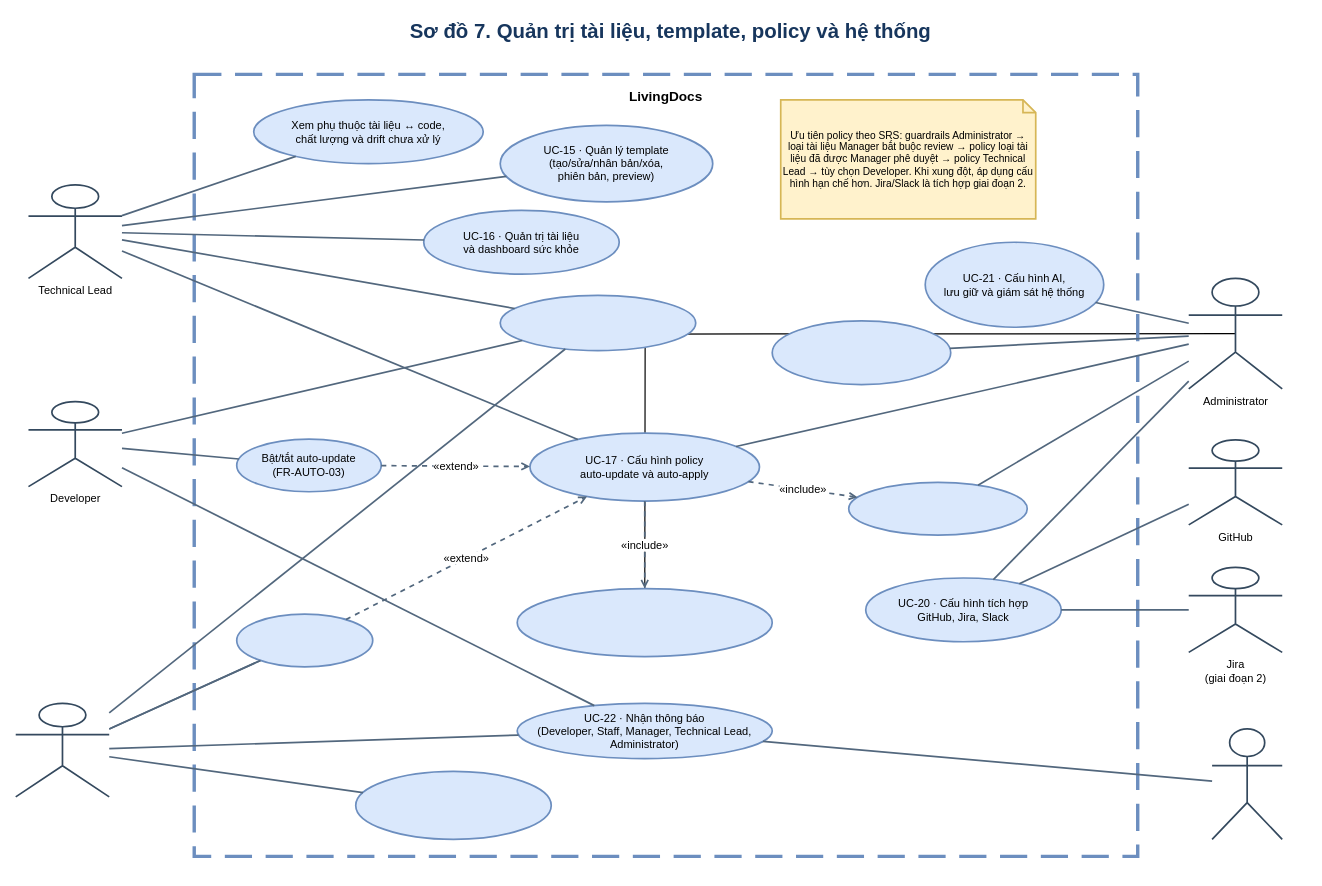
The diagram is 1322 pixels wide and 886 high, and some of its shapes have lost their labels. The centre of each missing label's shape, as x and y in pixels:
"Cấu hình policy theo loại tài liệu (Administrator · FR-AUTO-13)" belongs at [644,622].
"Giới hạn bảo vệ (guardrails) (FR-ADM-15)" belongs at [937,508].
"Manager" belongs at [62,749].
"Phê duyệt / thu hồi auto-apply theo loại tài liệu (FR-AUTO-17)" belongs at [304,640].
"Slack (giai đoạn 2)" belongs at [1247,784].
"Theo dõi lịch sử phiên bản, change log và rollback" belongs at [597,322].
"UC-18 · Cấu hình merge policy và ủy quyền duyệt" belongs at [453,805].
"UC-19 · Quản lý user, role và workspace" belongs at [861,352].
